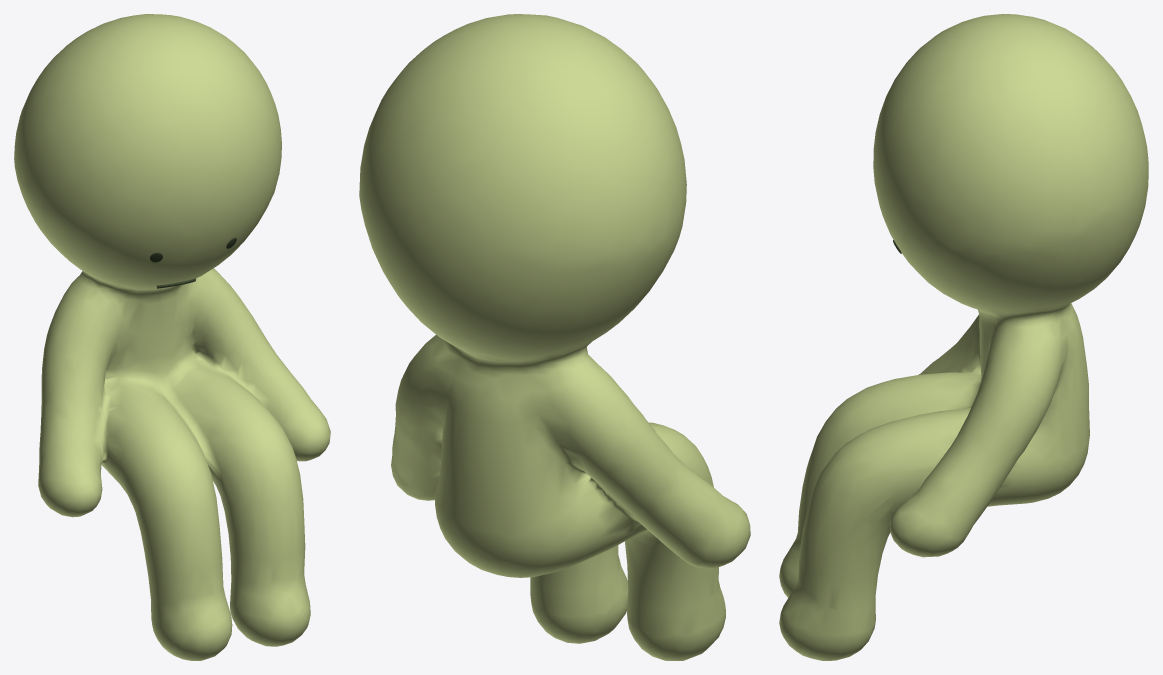
File: smiski-series-1-sitting.glb
3 views of the same model, side by side, from view 1: azimuth 30°, elevation 25°; view 2: azimuth 150°, elevation 25°; view 3: azimuth 270°, elevation 25° (orthographic). The views are drawn at different scales.
Visible parts, largest first — view 1: Continuous sculpt; view 2: Continuous sculpt; view 3: Continuous sculpt.
Part boxes in pixels (x1,y1,x2,y2): Continuous sculpt: [14, 14, 330, 660]; Continuous sculpt: [359, 14, 750, 660]; Continuous sculpt: [779, 14, 1148, 660].
Bounding box in the file's own units: 0.5413 × 1.04 × 0.573.
